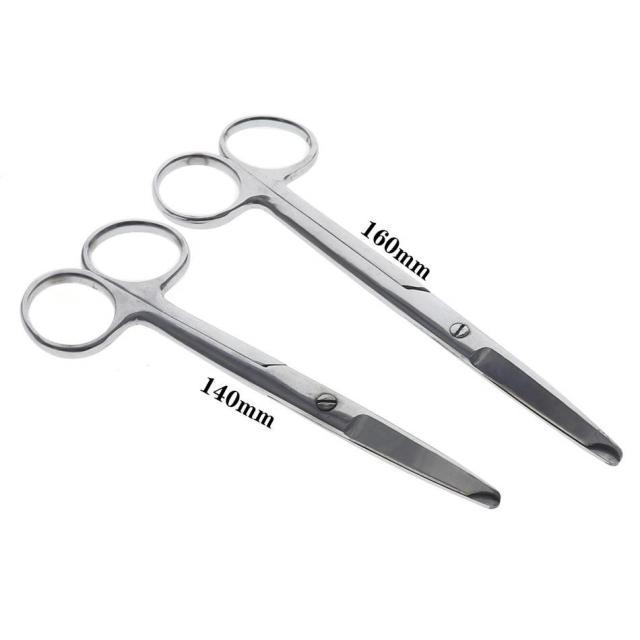scissors: (148, 111, 626, 469), (17, 216, 505, 512)
